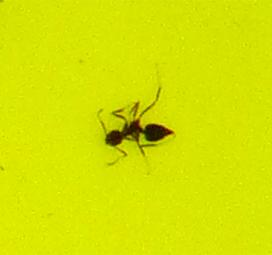Hymenoptera: (100, 100, 172, 155)
